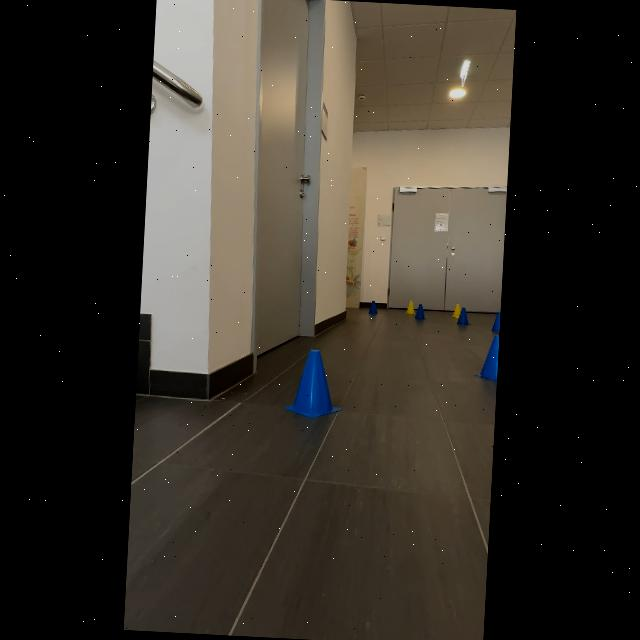blue_cone: (286, 337, 348, 427)
